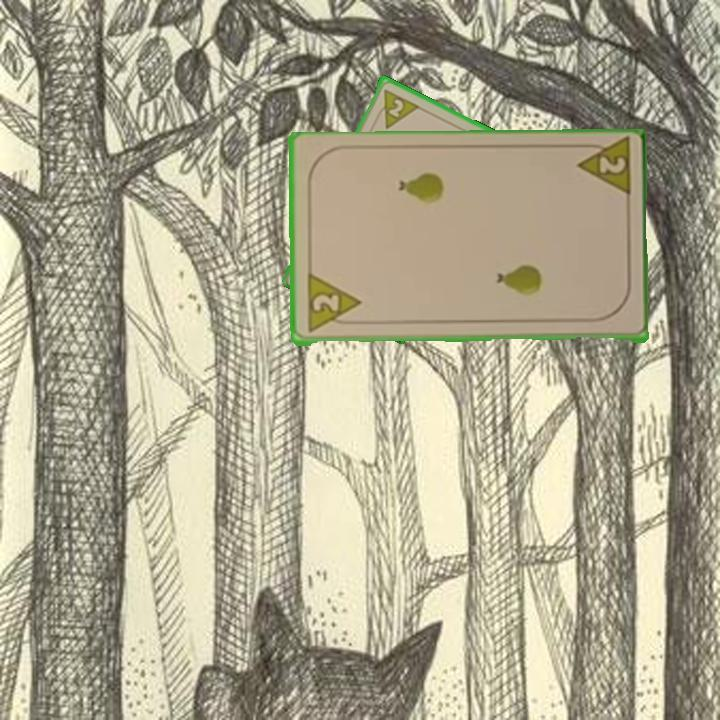2p: (572, 138, 633, 203), (303, 273, 363, 336), (370, 85, 420, 131)
